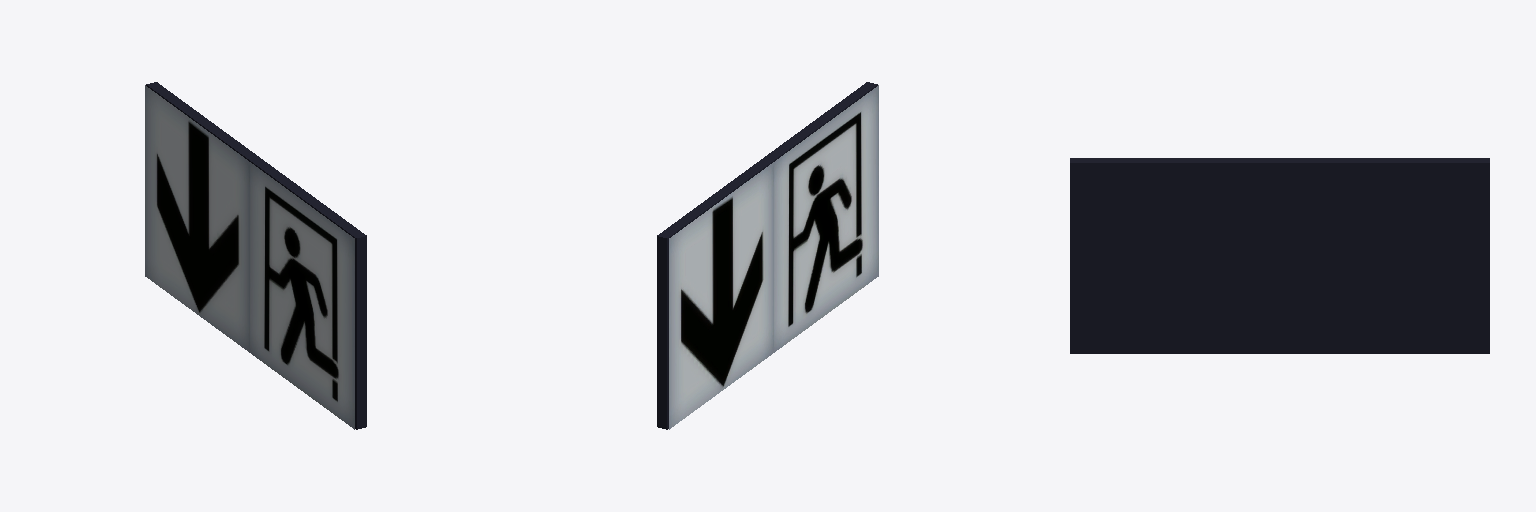
The picture shows the model from 3 angles: view 1: azimuth 30°, elevation 25°; view 2: azimuth 150°, elevation 25°; view 3: azimuth 270°, elevation 25°; orthographic projection.
Visible parts, largest first — view 1: Part2, Part4, Part1, Part3; view 2: Part4, Part2, Part3, Part1; view 3: Part1, Part3.
Part boxes in pixels (x1,y1,x2,y2): Part2: (250, 162, 354, 429); Part4: (145, 85, 249, 352); Part1: (251, 159, 366, 429); Part3: (146, 82, 260, 162); Part4: (669, 162, 773, 429); Part2: (774, 85, 878, 352); Part3: (657, 159, 772, 429); Part1: (763, 82, 877, 161); Part1: (1070, 158, 1279, 353); Part3: (1280, 158, 1489, 353).
Bounding box in the file's own units: 0.1644 × 2.5 × 4.99.
3 materials, 2 textured.